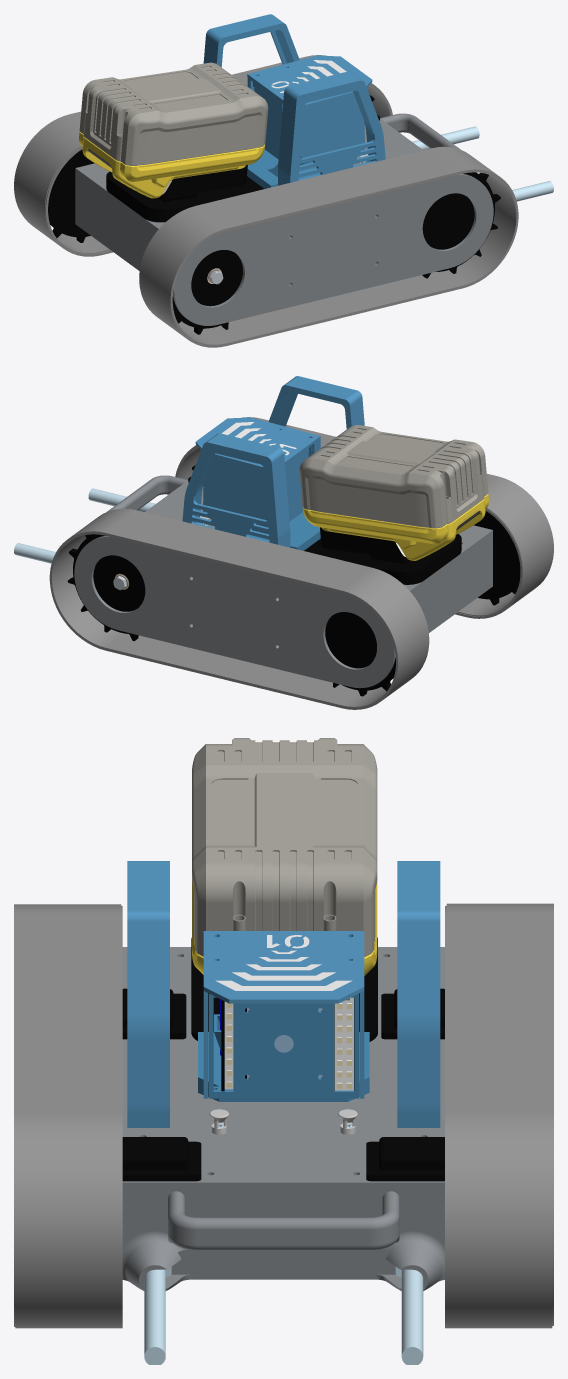
File: robot-main.glb
The picture shows the model from 3 angles, top to bottom: view 1: azimuth 30°, elevation 25°; view 2: azimuth 150°, elevation 25°; view 3: azimuth 270°, elevation 25°; orthographic projection. The views are drawn at different scales.
Visible parts, largest first — view 1: Part 1 (×8), TrackCoverOutter, Body012, Cover HAT, New Top Mount Right, chassis box, wheel original 3dp (×2), free wheel 3dp, New Top Mount Left, Chassis Cover v1.5, base U mount re-des; view 2: Part 1 (×8), TrackCoverOutter (×2), Body012, Cover HAT, New Top Mount Left, chassis box, free wheel 3dp (×2), wheel original 3dp, New Top Mount Right, Chassis Cover v1.5, base U mount re-des; view 3: Part 1 (×8), Body012, chassis box, Chassis Cover v1.5, New Top Mount Left, New Top Mount Right, Cover HAT, Molex antenna (×4), LED (×2), base U mount re-des, Part 2.
Part boxes in pixels (bbox=[...]): Part 1 (×8): bbox=[14, 55, 553, 347]; TrackCoverOutter: bbox=[173, 174, 493, 325]; Body012: bbox=[79, 62, 268, 198]; Cover HAT: bbox=[247, 55, 372, 162]; New Top Mount Right: bbox=[278, 71, 385, 185]; chassis box: bbox=[75, 113, 460, 270]; wheel original 3dp (×2): bbox=[48, 149, 500, 278]; free wheel 3dp: bbox=[172, 250, 242, 334]; New Top Mount Left: bbox=[203, 14, 299, 86]; Chassis Cover v1.5: bbox=[75, 118, 422, 230]; base U mount re-des: bbox=[247, 150, 320, 188]; Part 1 (×8): bbox=[14, 417, 553, 709]; TrackCoverOutter (×2): bbox=[74, 536, 395, 688]; Body012: bbox=[299, 425, 488, 560]; Cover HAT: bbox=[195, 417, 320, 524]; New Top Mount Left: bbox=[182, 433, 290, 547]; chassis box: bbox=[107, 475, 492, 632]; free wheel 3dp (×2): bbox=[67, 511, 520, 641]; wheel original 3dp: bbox=[325, 612, 395, 696]; New Top Mount Right: bbox=[268, 376, 364, 447]; Chassis Cover v1.5: bbox=[145, 480, 492, 592]; base U mount re-des: bbox=[248, 512, 320, 550]; Part 1 (×8): bbox=[14, 903, 553, 1364]; Body012: bbox=[192, 738, 377, 975]; chassis box: bbox=[122, 1187, 444, 1290]; Chassis Cover v1.5: bbox=[122, 947, 444, 1187]; New Top Mount Left: bbox=[397, 861, 440, 1127]; New Top Mount Right: bbox=[127, 861, 169, 1127]; Cover HAT: bbox=[203, 931, 364, 1098]; Molex antenna (×4): bbox=[122, 988, 444, 1181]; LED (×2): bbox=[221, 997, 354, 1091]; base U mount re-des: bbox=[198, 1014, 369, 1101]; Part 2: bbox=[215, 980, 352, 990].
Bounding box in the file's own units: 0.3924 × 0.179 × 0.2518.
